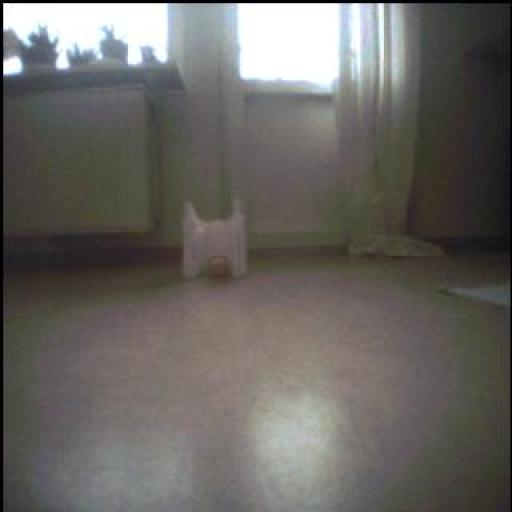Basket: (206, 249, 236, 284)
